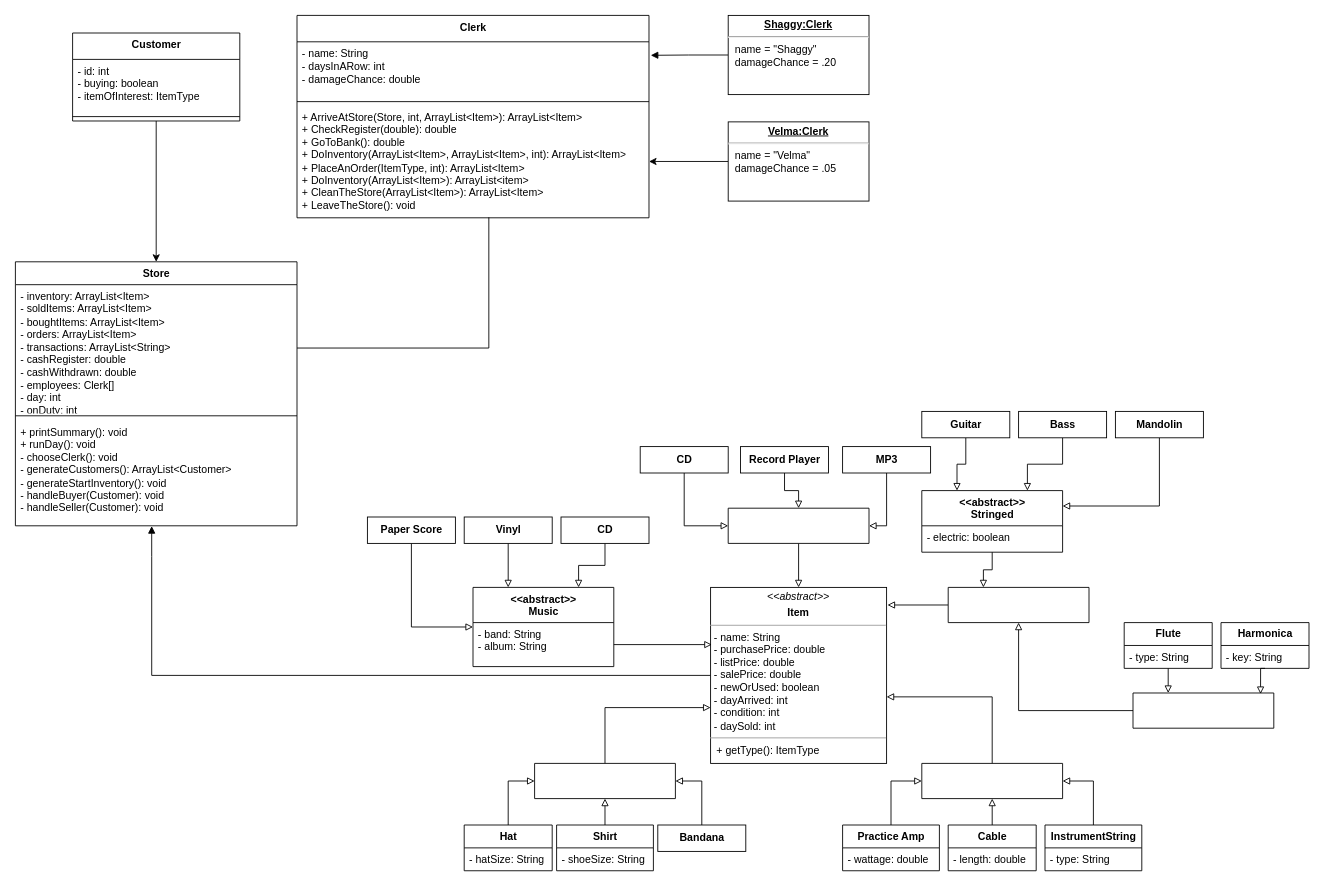
Image size: 1324x889. Some labels were removed from this diagram. The centre of each missing label's shape, as x and y in pixels:
<<abstract>> Accessory: point (992, 781)
<<abstract>> Clothing: point (604, 781)
<<abstract>> Instrument: point (1018, 605)
<<abstract>> Player: point (798, 525)
<<abstract>> Wind: point (1203, 710)
